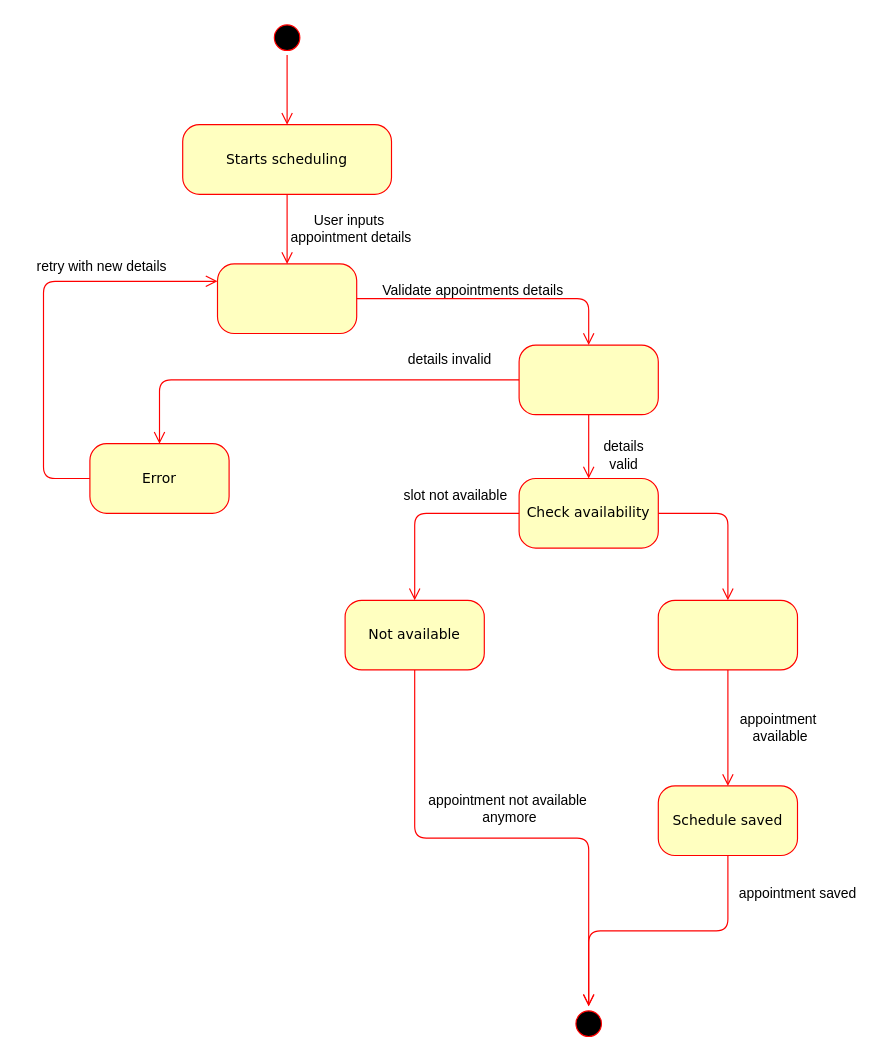
The diagram is 886 pixels wide and 1061 high, and some of its shapes have lost their labels. Here are the shapes that lost their labels. From the top down, the centre of each, then its label:
point (286, 298): Inputs Details
point (588, 379): Validate details
point (727, 634): Available
